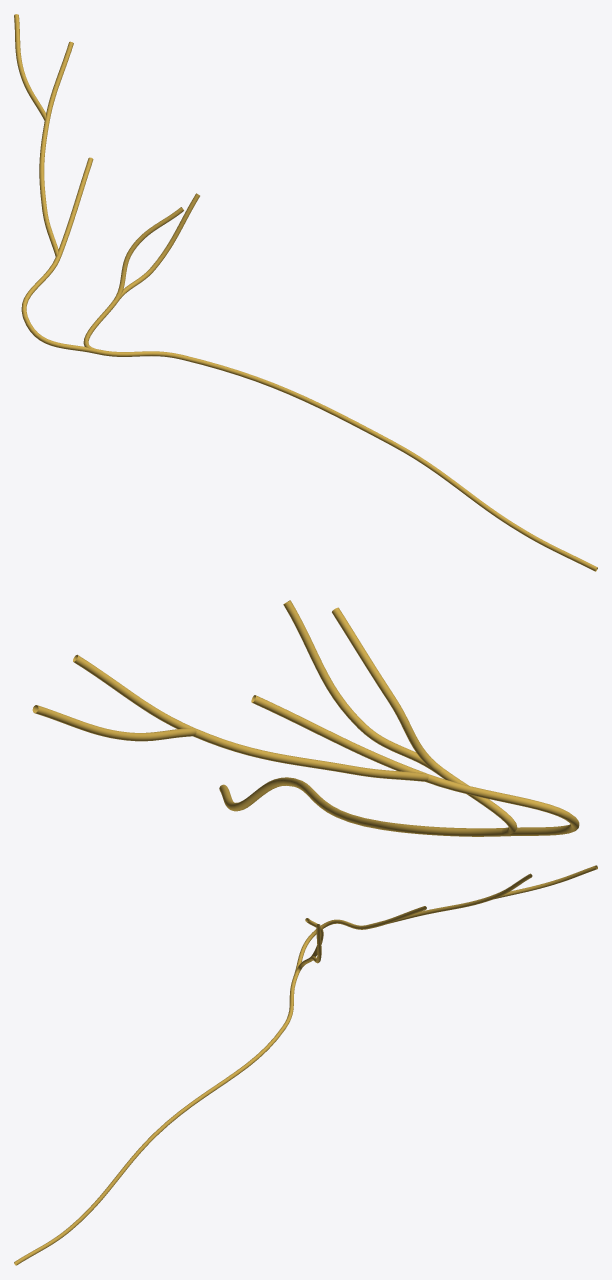
The picture shows the model from 3 angles, top to bottom: view 1: azimuth 30°, elevation 25°; view 2: azimuth 150°, elevation 25°; view 3: azimuth 270°, elevation 25°; orthographic projection. The views are drawn at different scales.
Parts seen in each view (by area): view 1: 右侧肩胛上神经; view 2: 右侧肩胛上神经; view 3: 右侧肩胛上神经.
Part boxes in pixels (bbox=[...]): 右侧肩胛上神经: bbox=[14, 14, 597, 571]; 右侧肩胛上神经: bbox=[32, 600, 579, 836]; 右侧肩胛上神经: bbox=[14, 865, 597, 1265].
Size of the model in its own units: 0.1318 by 0.1163 by 0.2024.
